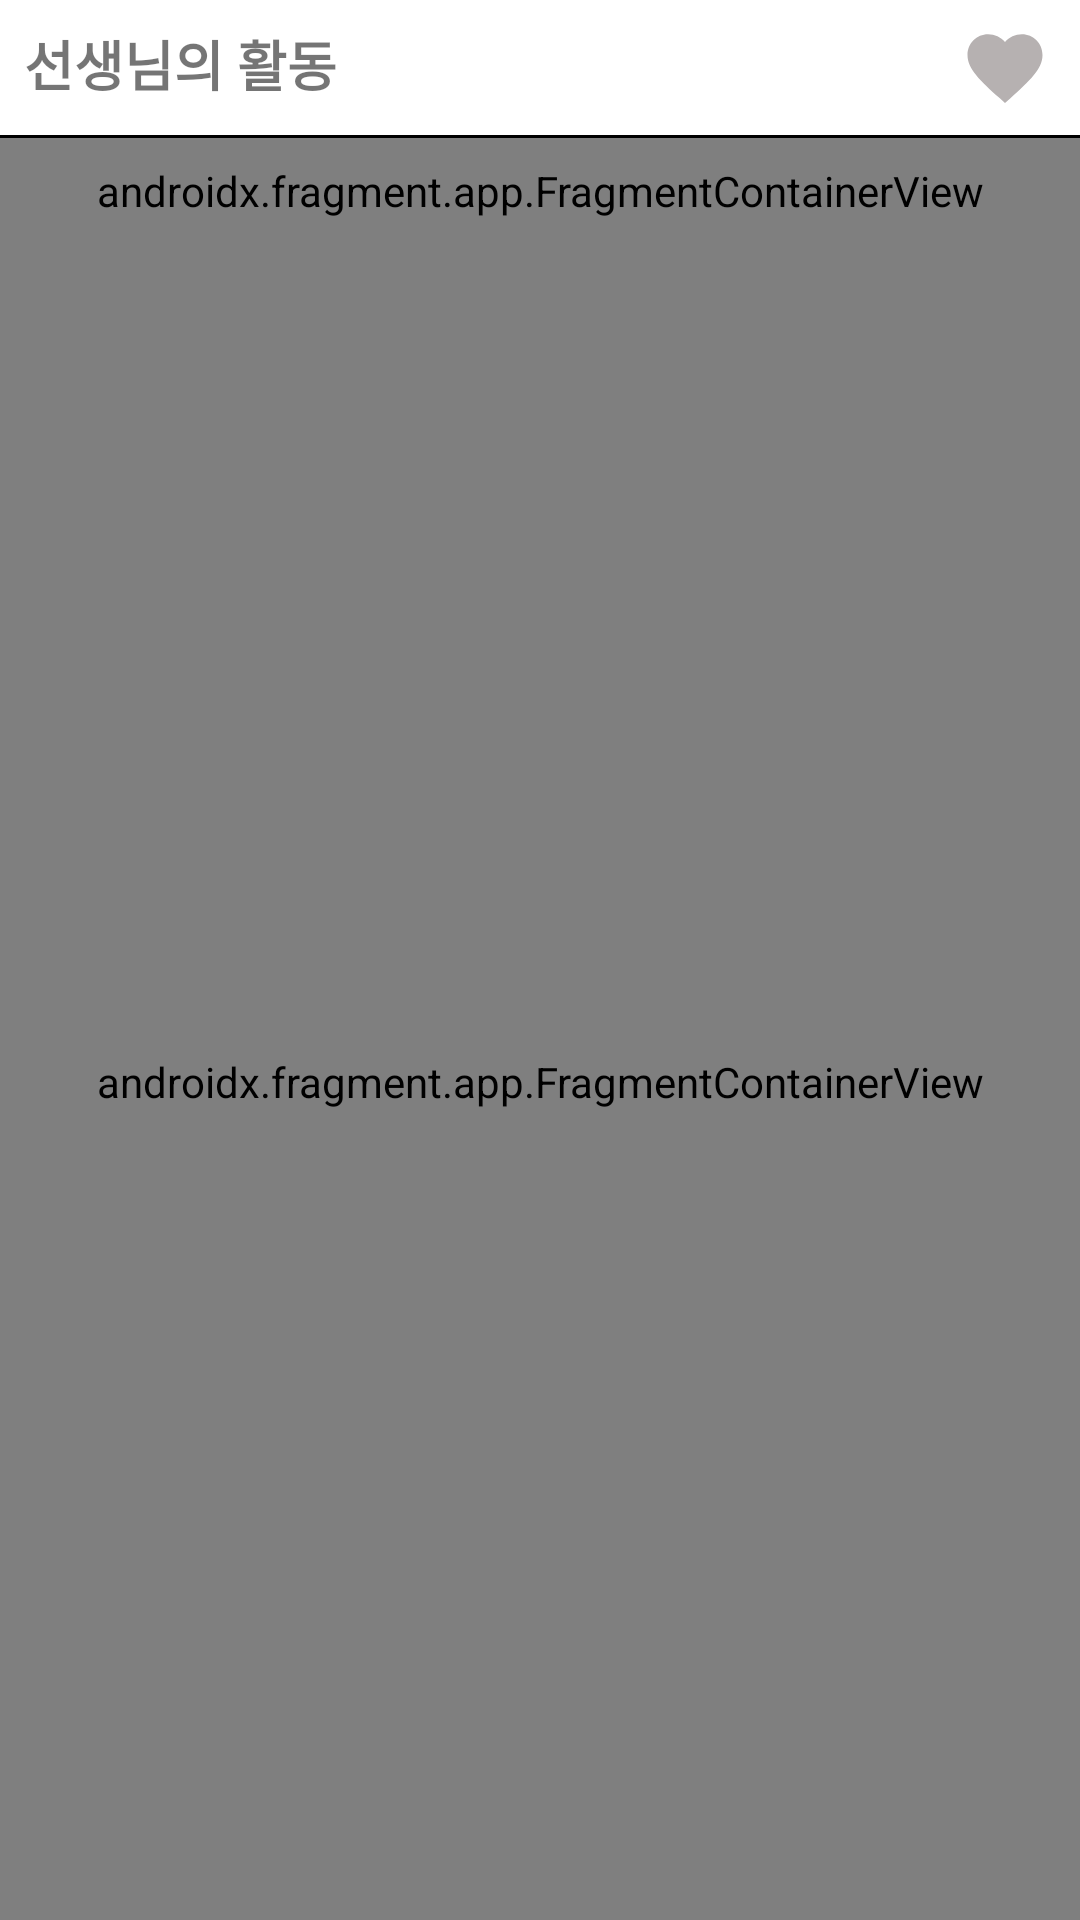

Point at icon controls on the screen. Image size 1080px x 1920px, points as point (x, y).
favorites: point (1005, 68)
